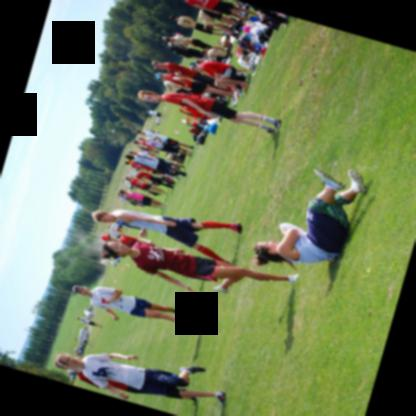backpack: (170, 42, 193, 58), (204, 123, 218, 135)
